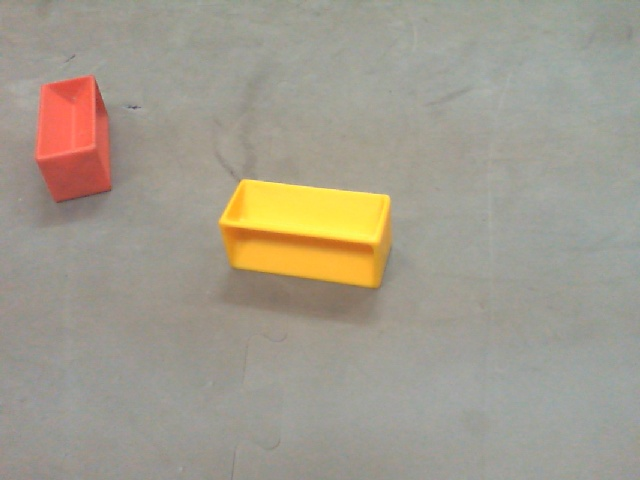RedSample: (34, 74, 117, 204)
YellowSample: (215, 176, 396, 296)
